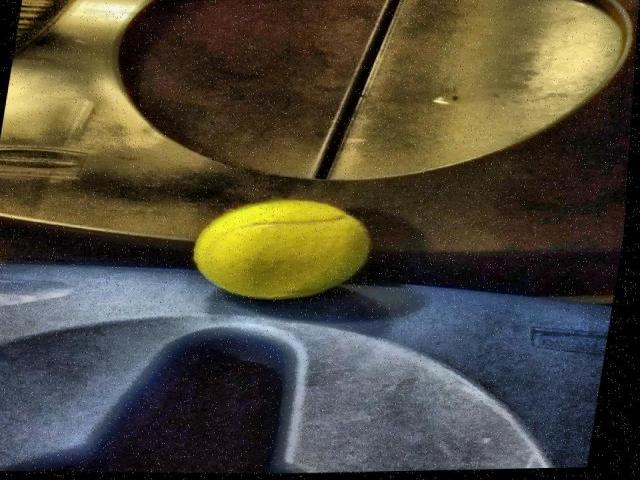tennis-ball: (195, 198, 372, 300)
